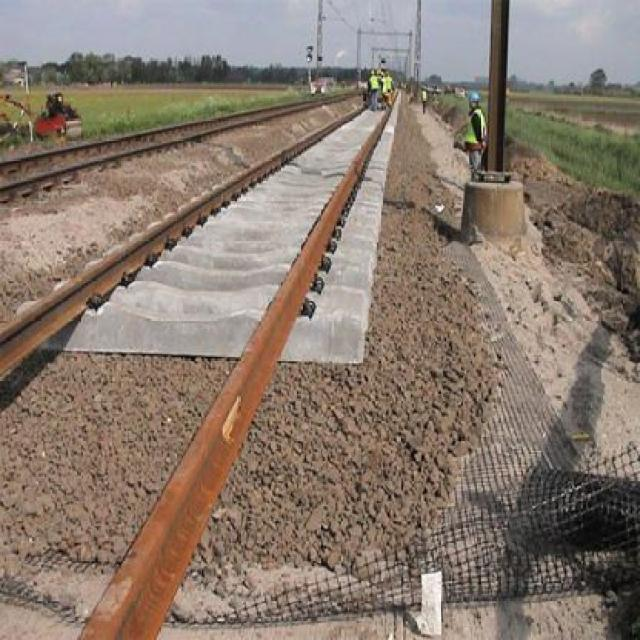defective: (10, 179, 387, 614)
